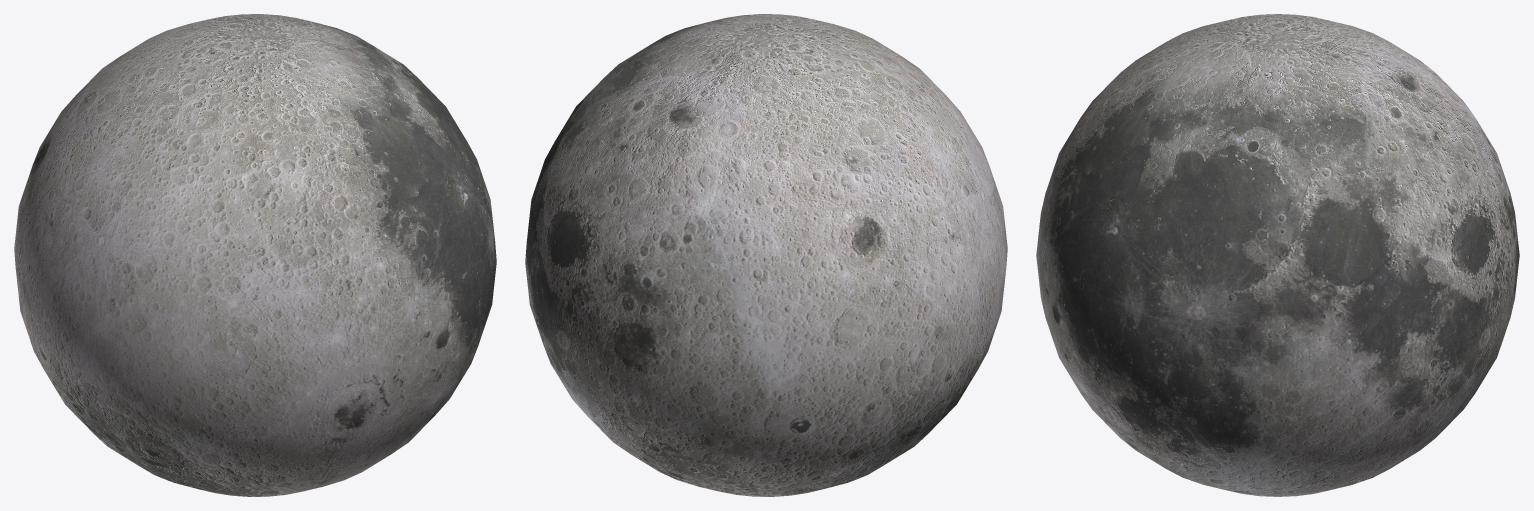
File: Meteor (Shattered).dae
3 renders of one model, left to right at view 1: azimuth 30°, elevation 25°; view 2: azimuth 150°, elevation 25°; view 3: azimuth 270°, elevation 25°, orthographic.
Visible parts, largest first — view 1: Sphere; view 2: Sphere; view 3: Sphere.
Part boxes in pixels (bbox=[...]): Sphere: bbox=[14, 14, 496, 496]; Sphere: bbox=[525, 14, 1007, 496]; Sphere: bbox=[1036, 14, 1519, 496].
Bounding box in the file's own units: 2 × 2 × 2.
